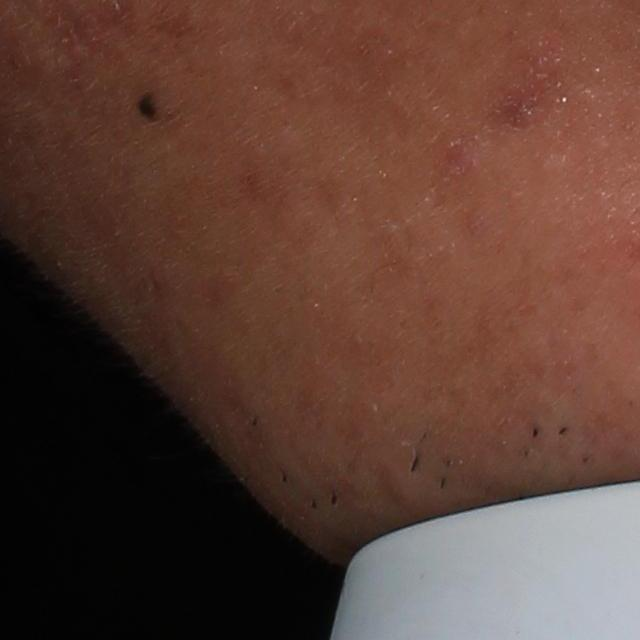nevus: (133, 90, 160, 120)
